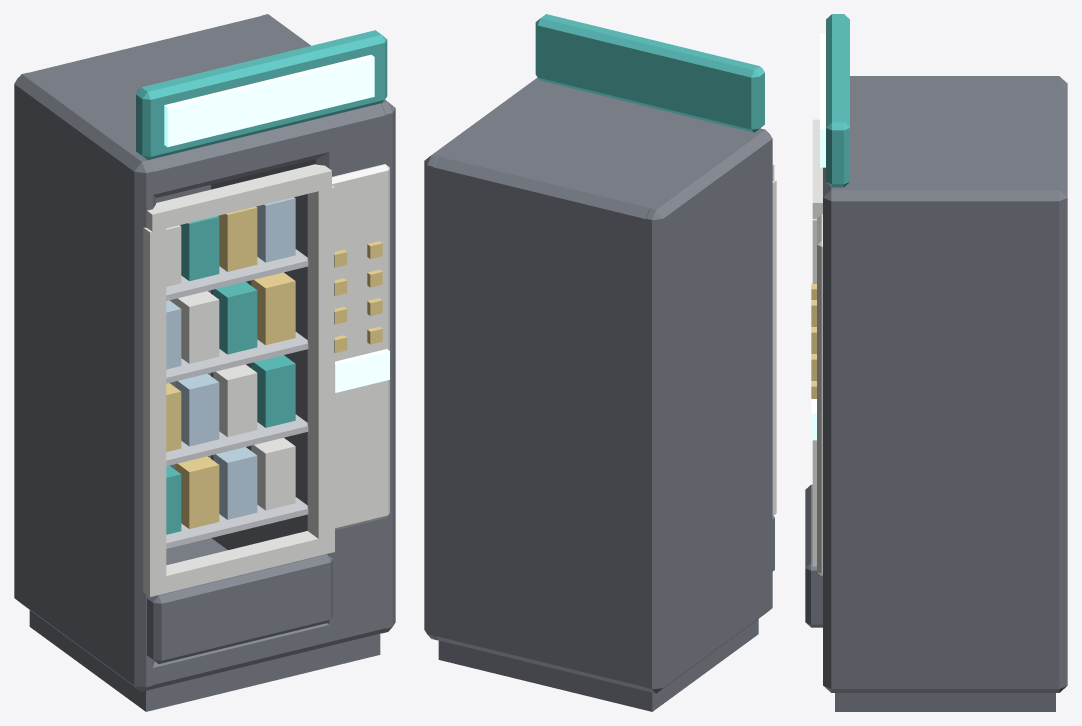
Rendered from medical-23636.glb.
3 views of the same model, side by side, from view 1: azimuth 30°, elevation 25°; view 2: azimuth 150°, elevation 25°; view 3: azimuth 270°, elevation 25° (orthographic). The views are drawn at different scales.
Visible parts, largest first — view 1: vending-machine; view 2: vending-machine; view 3: vending-machine.
Boxes of the visible parts, x1,y1,x2,y2 form: vending-machine: (14,14,395,711); vending-machine: (424,14,776,711); vending-machine: (805,14,1067,711).
Bounding box in the file's own units: 0.9599 × 2.18 × 0.8801.
